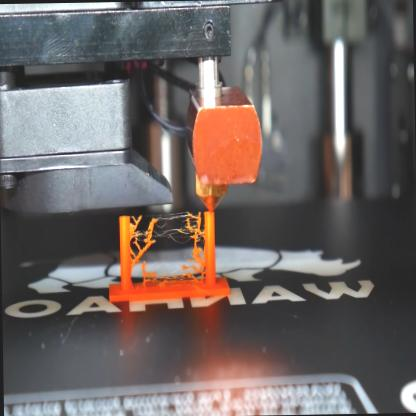fail: (129, 211, 207, 280)
